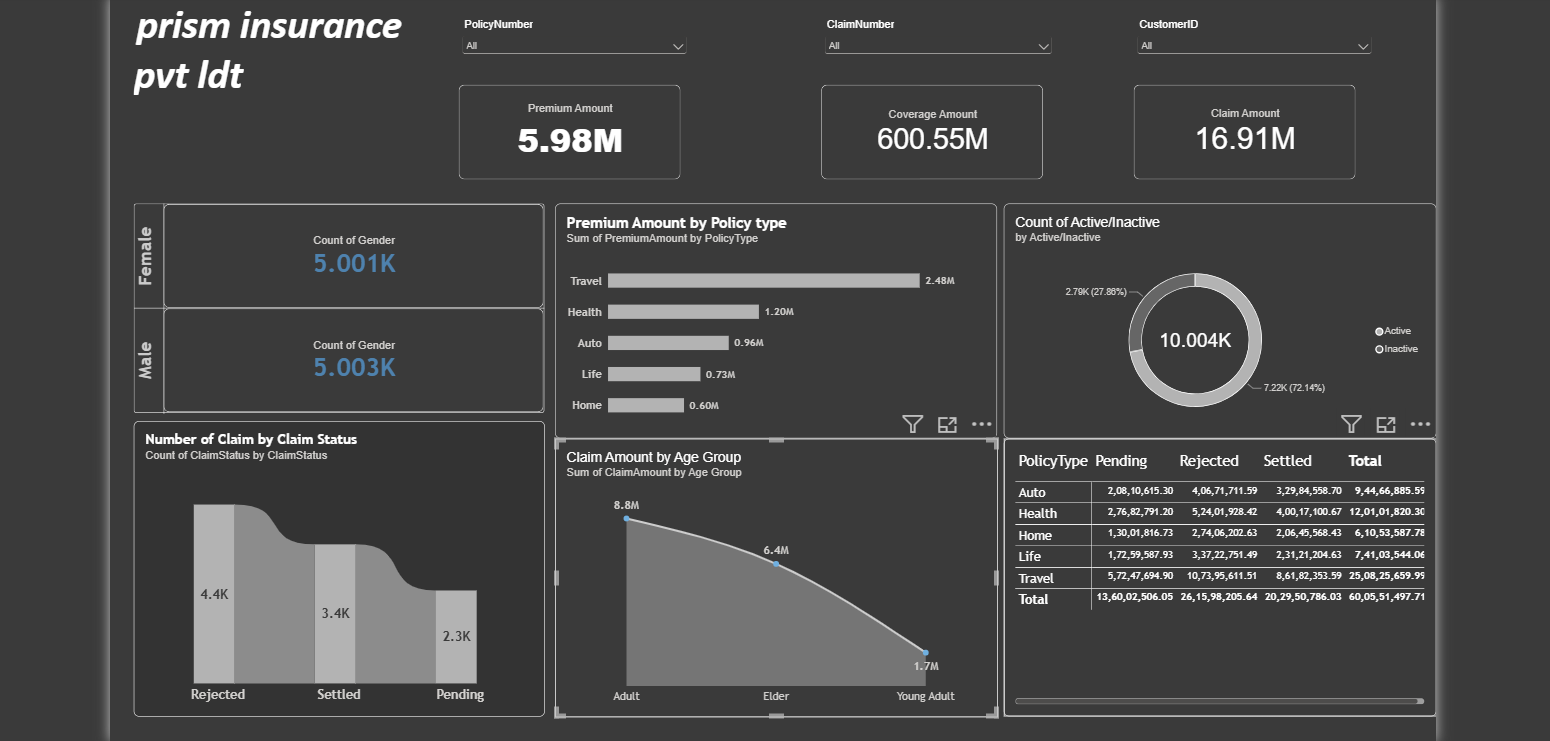

What the dashboard file says about the page in this screenshot:
{"tool":"powerbi","page":{"name":"Page 1","canvas":[1920,1080],"ordinal":0},"visuals":[{"type":"slicer","fields":{"Values":["InsuranceData.PolicyNumber"]},"box":[504.3,32.9,335.5,76.2],"z":0},{"type":"slicer","fields":{"Values":["InsuranceData.ClaimNumber"]},"box":[1029.2,32.9,339.6,76.2],"z":1000},{"type":"slicer","fields":{"Values":["InsuranceData.CustomerID"]},"box":[1482,32.9,349.9,76.2],"z":2000},{"type":"textbox","box":[35,6.2,440.5,209.9],"z":3000},{"type":"cardVisual","fields":{"Data":["Sum(InsuranceData.PremiumAmount)"]},"box":[504.3,127.6,321.1,137.9],"z":4000},{"type":"cardVisual","fields":{"Data":["Sum(InsuranceData.CoverageAmount)"]},"box":[1029.2,127.6,321.1,137.9],"z":5000},{"type":"cardVisual","fields":{"Data":["Sum(InsuranceData.ClaimAmount)"]},"box":[1482,127.6,321.1,137.9],"z":6000},{"type":"cardVisual","fields":{"Data":["CountNonNull(InsuranceData.Gender)"],"Rows":["InsuranceData.Gender"]},"box":[35,300.5,594.9,304.6],"z":7000},{"type":"ribbonChart","title":"Number of Claim by Claim Status","fields":{"Category":["InsuranceData.ClaimStatus"],"Y":["CountNonNull(InsuranceData.ClaimStatus)"]},"box":[35,615.4,594.9,428.1],"z":8000},{"type":"barChart","title":"Premium Amount by Policy type","fields":{"Category":["InsuranceData.PolicyType"],"Y":["Sum(InsuranceData.PremiumAmount)"]},"box":[644.3,300.5,640.1,339.6],"z":9000},{"type":"lineChart","title":" Claim Amount by Age Group","fields":{"Category":["InsuranceData.Age Group"],"Y":["Sum(InsuranceData.ClaimAmount)"]},"box":[644.2,640.6,640.6,403.6],"z":10000},{"type":"donutChart","fields":{"Category":["InsuranceData.Active/Inactive"],"Y":["CountNonNull(InsuranceData.Active/Inactive)"]},"box":[1294,301,626,340],"z":10001},{"type":"pivotTable","fields":{"Columns":["InsuranceData.ClaimStatus"],"Rows":["InsuranceData.PolicyType"],"Values":["Sum(InsuranceData.CoverageAmount)"]},"box":[1294,641,626,402],"z":10002}]}

Visuals, with their boxes in screenshot pixels (x1, y1, x2, y2):
slicer - InsuranceData.PolicyNumber: 467, 22, 695, 74
slicer - InsuranceData.ClaimNumber: 823, 22, 1053, 74
slicer - InsuranceData.CustomerID: 1130, 22, 1368, 74
textbox: 149, 4, 448, 147
cardVisual - Sum(InsuranceData.PremiumAmount): 467, 87, 685, 180
cardVisual - Sum(InsuranceData.CoverageAmount): 823, 87, 1041, 180
cardVisual - Sum(InsuranceData.ClaimAmount): 1130, 87, 1348, 180
cardVisual - CountNonNull(InsuranceData.Gender) x InsuranceData.Gender: 149, 204, 552, 410
"Number of Claim by Claim Status" ribbonChart: 149, 417, 552, 708
"Premium Amount by Policy type" barChart: 562, 204, 996, 434
" Claim Amount by Age Group" lineChart: 562, 434, 996, 708
donutChart - InsuranceData.Active/Inactive x CountNonNull(InsuranceData.Active/Inactive): 1003, 204, 1427, 435
pivotTable - InsuranceData.ClaimStatus x InsuranceData.PolicyType: 1003, 435, 1427, 707
